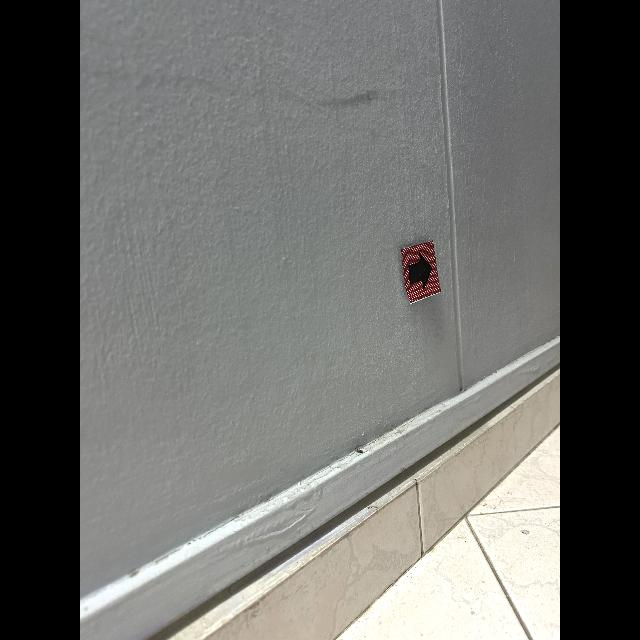RIGHT: (409, 253, 432, 289)
